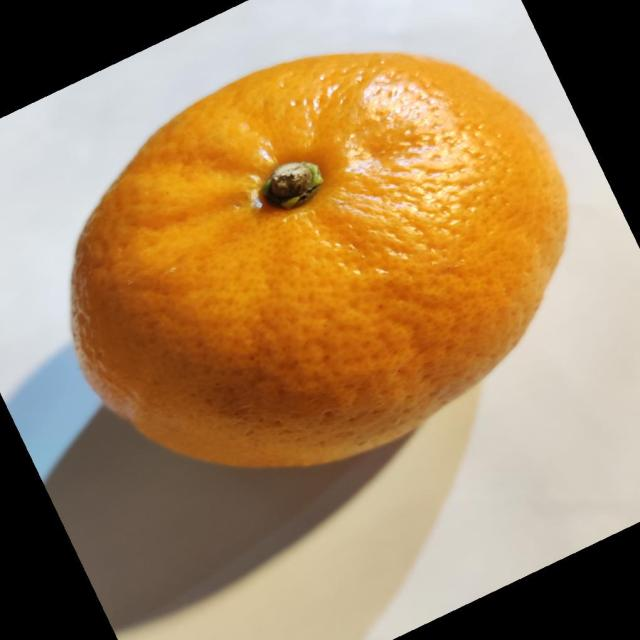fresh orange: (69, 49, 569, 470)
